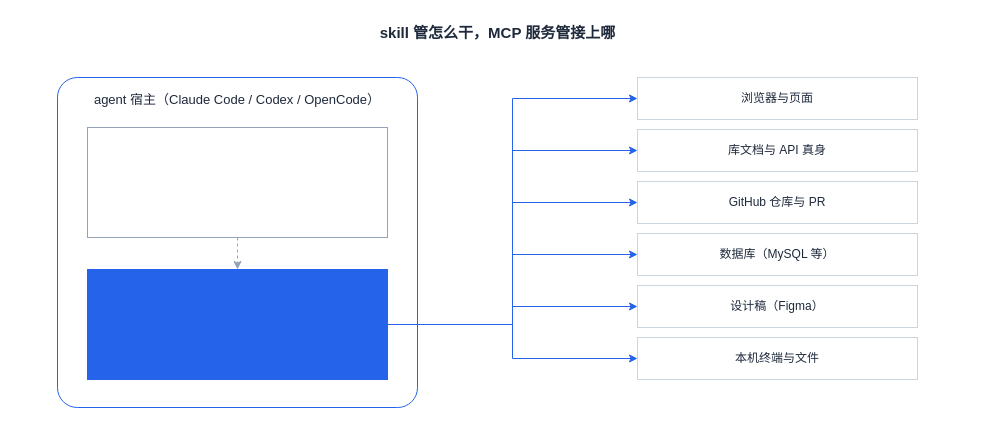
Some shapes in this 994 by 425 pixel diagram are drawn without their labels. The centre of each missing label's shape, as x and y in pixels:
"MCP client 接口层：按协议调用外部工具 管「活儿接到哪」" goes at [237,324].
"skills 方法层：流程、措辞、纪律 管「活儿怎么干」" goes at [237,182].
